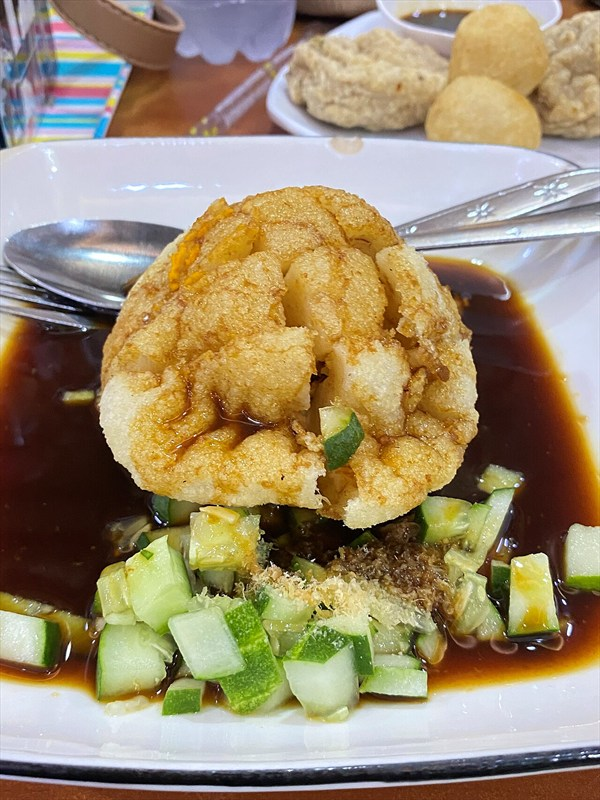Pempek: (61, 205, 572, 721)
